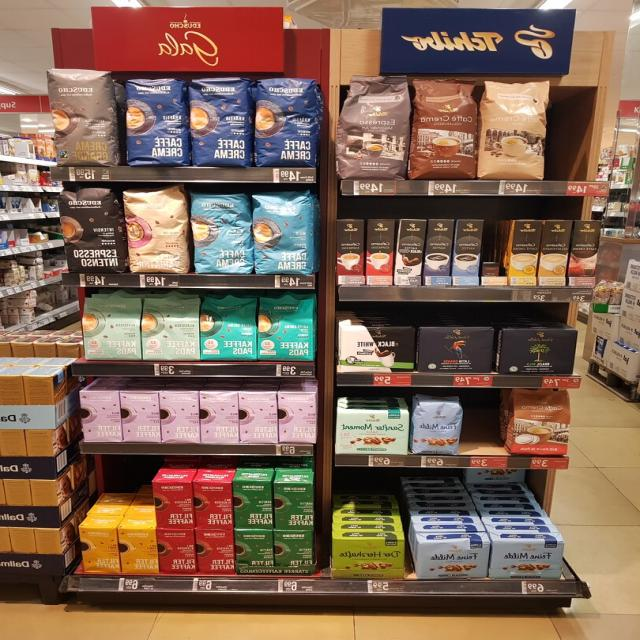BM Gemahlen: (497, 328, 579, 376)
BW Gemahlen: (337, 326, 415, 374)
CC Mild: (478, 78, 552, 180)
CC Vollmundig: (510, 389, 573, 457)
CC Vollmundig 36 Pads: (411, 76, 478, 180)
Empty Shelf: (462, 396, 509, 454), (480, 220, 511, 277)
Espresso M Art: (337, 74, 409, 180)
FM Bohne: (409, 397, 464, 455)
FM Gemahlen: (488, 540, 566, 580), (416, 540, 490, 580)
Herzhatfe Mundig: (331, 538, 405, 579)
LG Gemahlen: (417, 326, 495, 374)
SM Gemahlen: (334, 410, 409, 454)
Simo CC Colombia: (567, 220, 601, 286)
Simo CCMild bigpack: (508, 220, 543, 286)
Simo Decaff: (537, 220, 572, 286)
Simo Es Brazil: (366, 220, 394, 285)
Simo Es Caramel: (338, 220, 363, 284)
Simo Es Elegant: (395, 219, 426, 286)
Simo Es Kraft: (423, 219, 454, 286)
Simo Es Vanilla: (452, 219, 482, 286)
